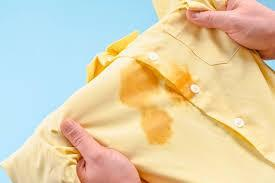lipstick: (118, 64, 162, 105), (143, 102, 172, 145), (166, 67, 192, 100)
